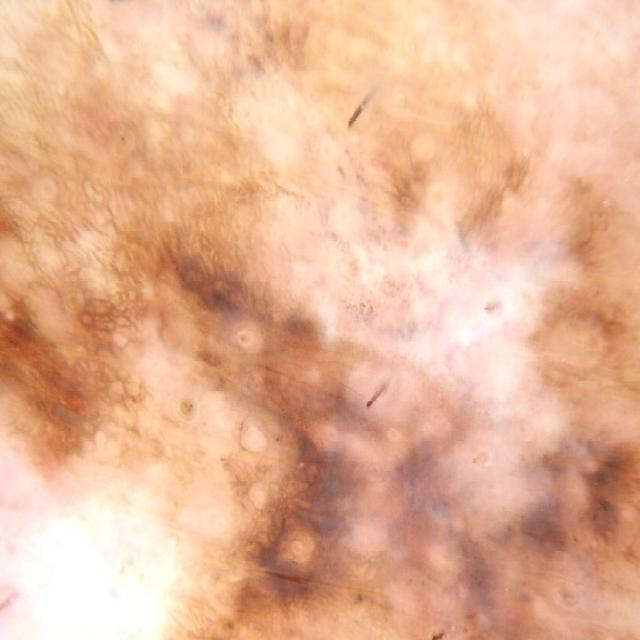Melanoma: (0, 119, 607, 640)
